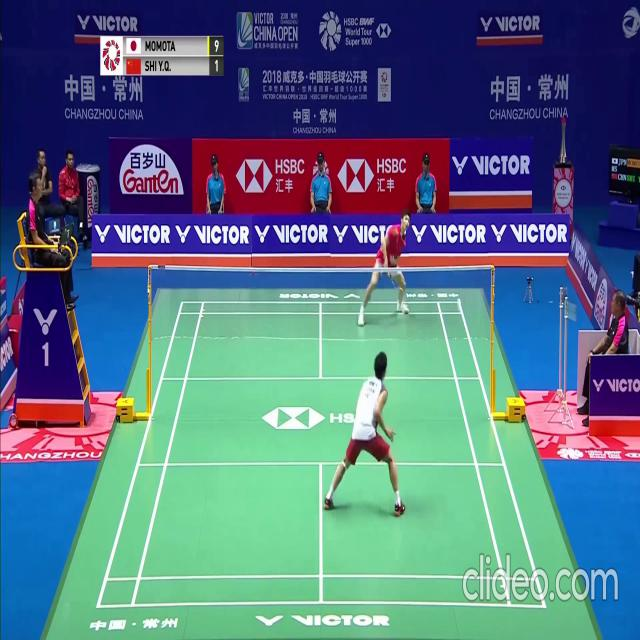Shuttlecock: (457, 304, 462, 311)
